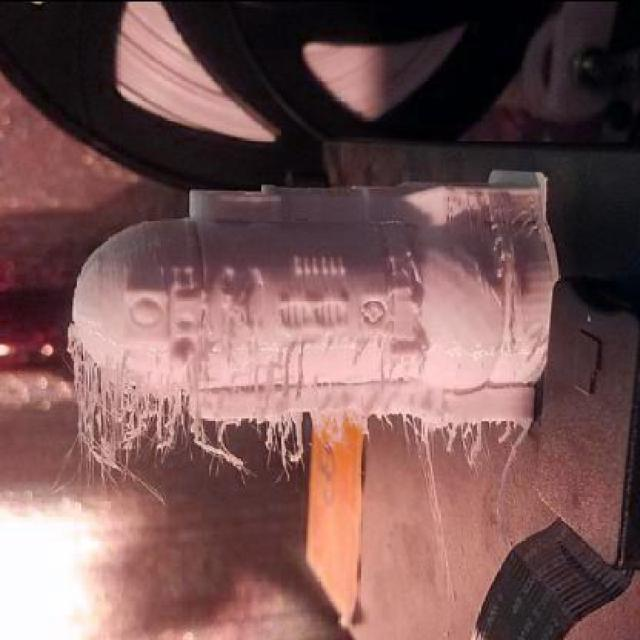Spaghetti: (53, 326, 532, 499), (440, 184, 546, 296)
